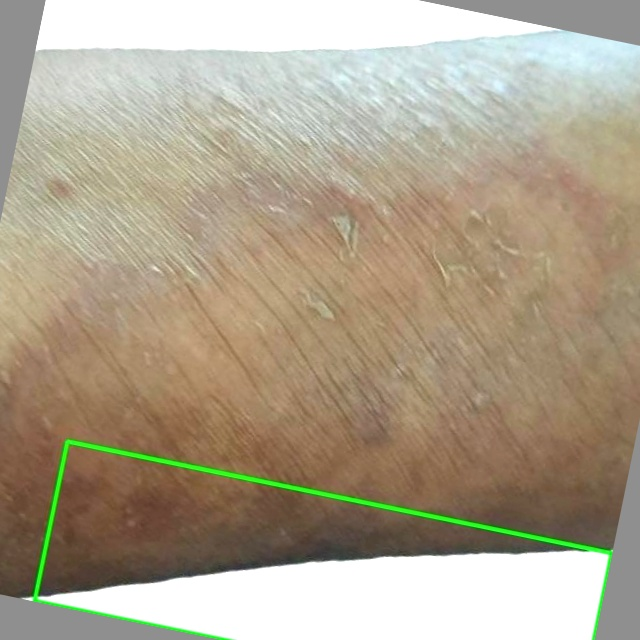Tinea Corporis: (33, 441, 611, 639)
